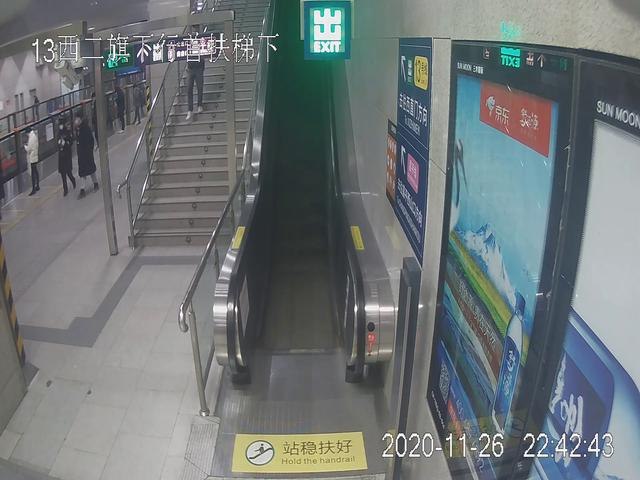person: (180, 25, 212, 114), (74, 112, 101, 195), (54, 117, 73, 199), (23, 128, 40, 198)
